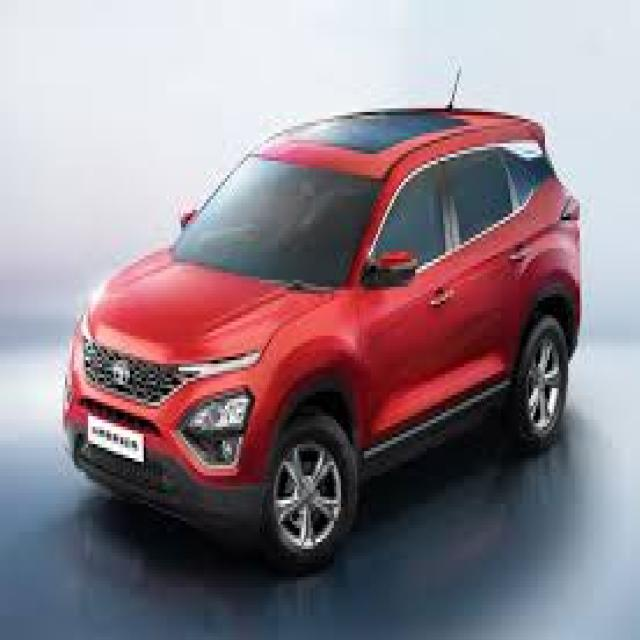Car: (64, 107, 580, 571)
